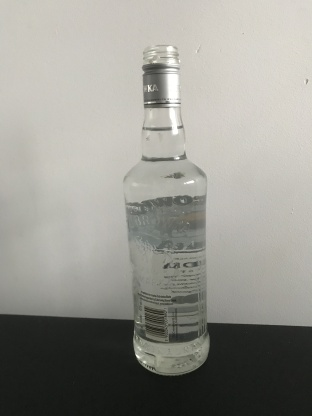nakretka: (140, 43, 182, 109)
